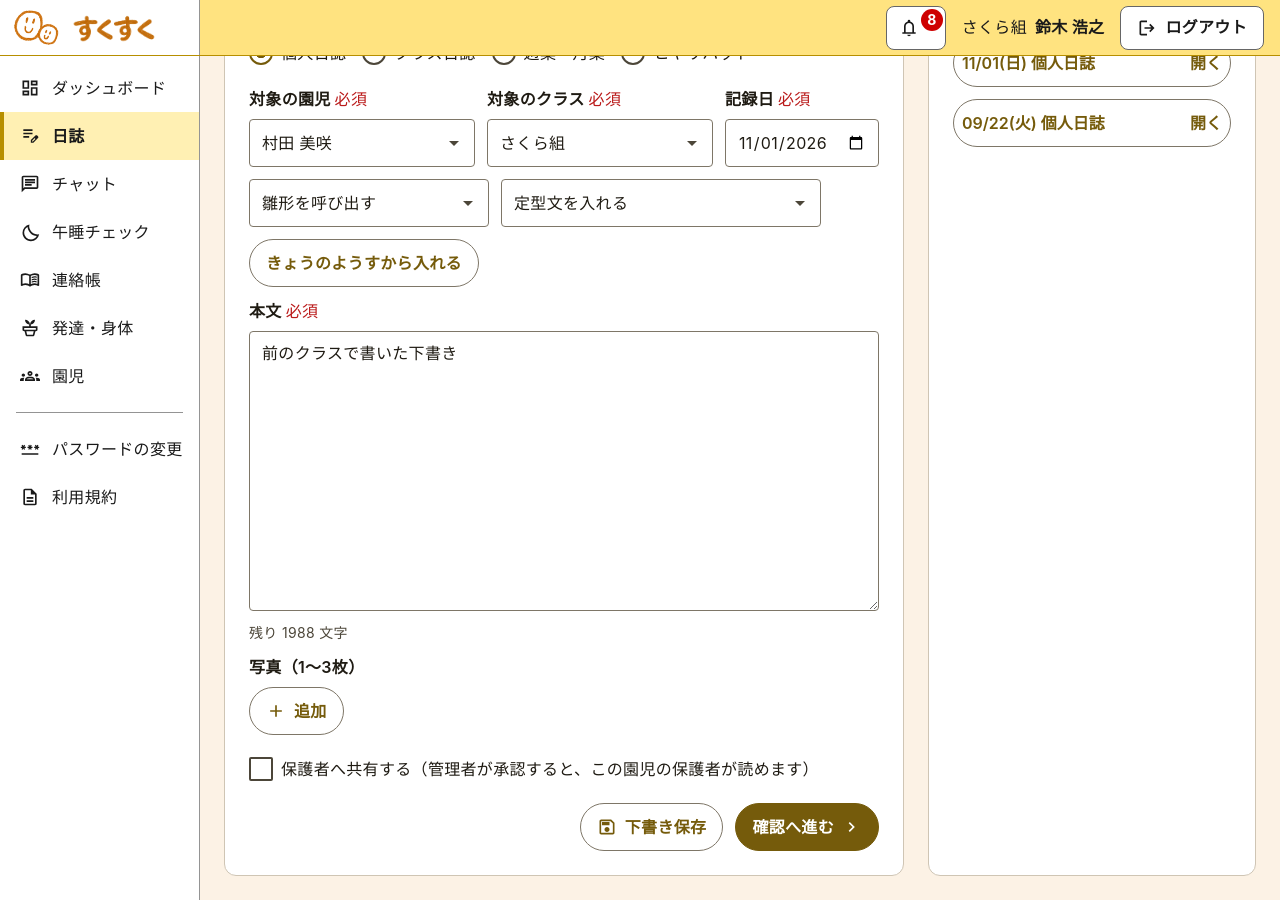
Test case: 日誌作成・編集画面（#174 の 2・5） › 書いたあとに園児のクラスが変わった下書きは、開くと園児のいまのクラスが入り、そのまま保存できる
The image size is (1280, 900).
(page scrolled)
Click the button "下書き保存" at (652, 827), box [580,803,723,851]
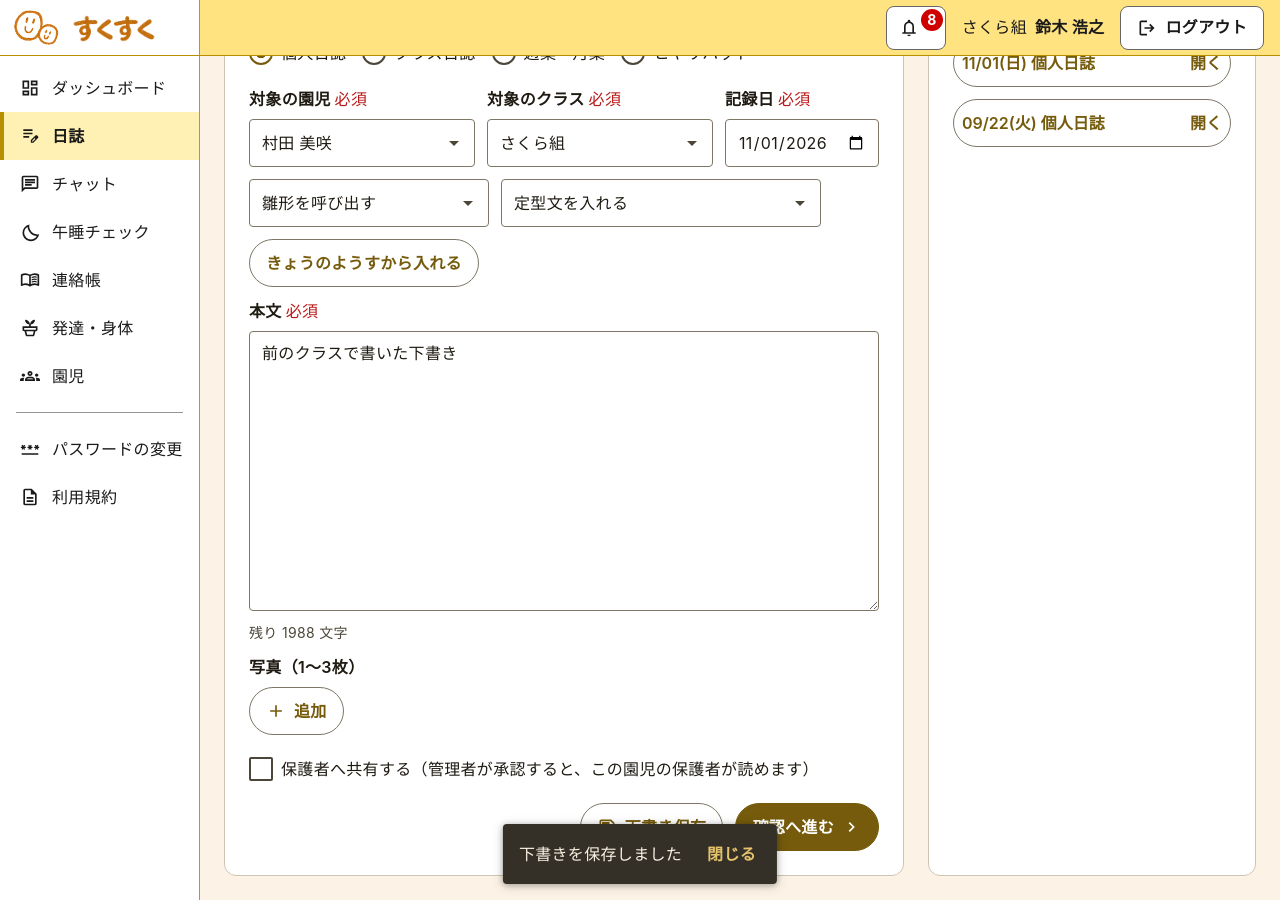
Expected: the text "下書きを保存しました" is shown, [519,842,682,866]
